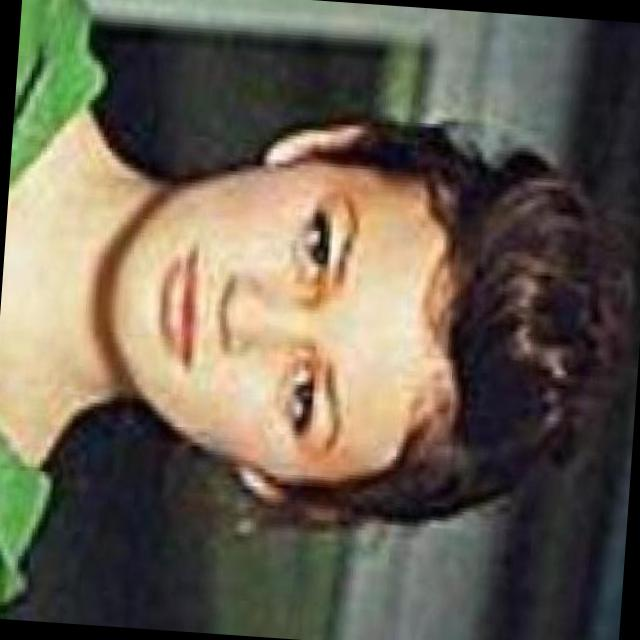bareface: (75, 115, 511, 512)
